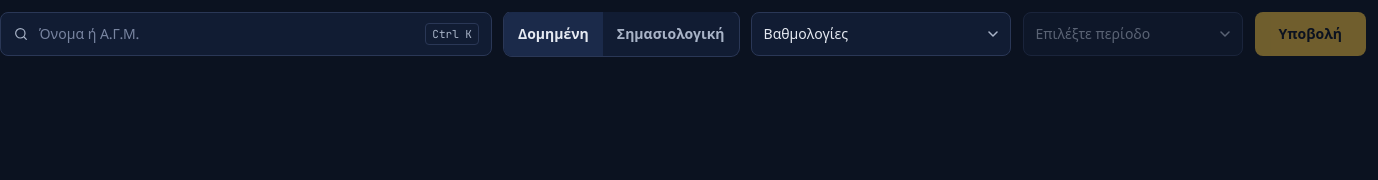
it: QueryForm › loads persons into the person search
The width and height of the screenshot is (1378, 180).
Click the dropdown named "Άτομο": coordinates (227, 34) [39,13,415,55]
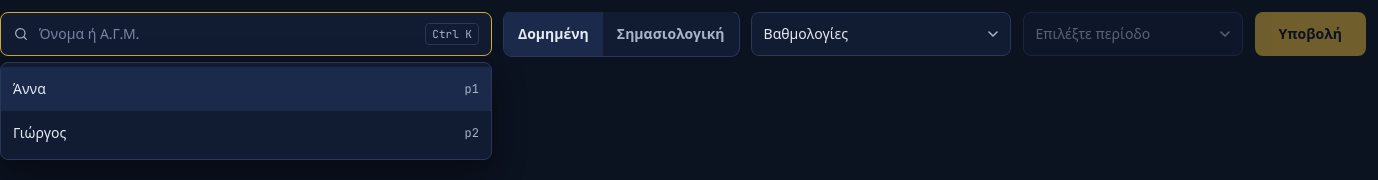
Expected: the option with aria-label "Άννα (p1)" is shown, [1,67,491,111]
Expected: the option with aria-label "Γιώργος (p2)" is shown, [13,124,479,142]
